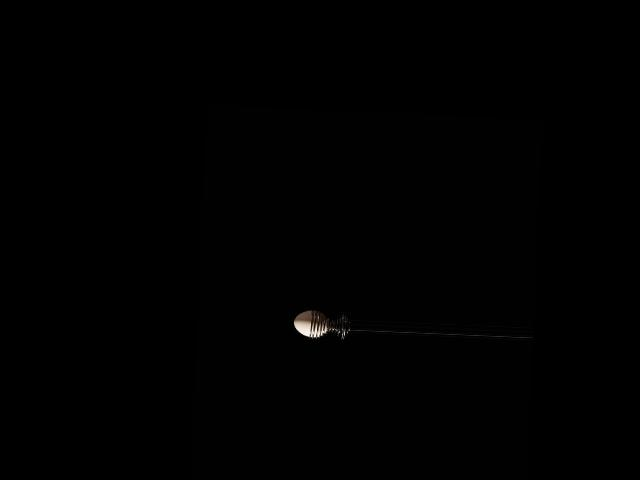egg: (293, 310, 328, 338)
